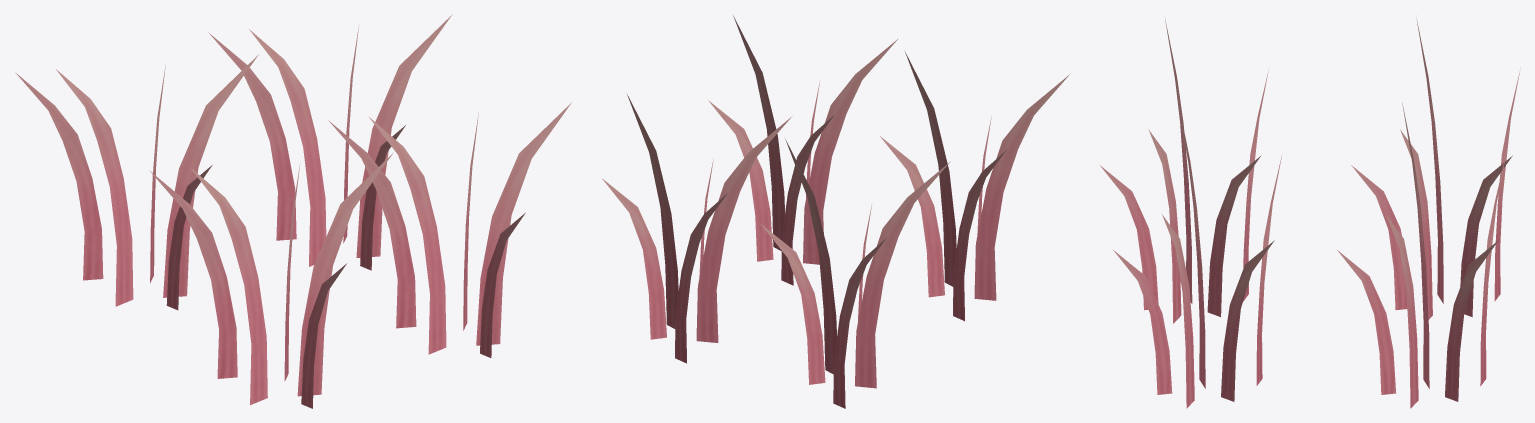
The model's file is Pinkgrass_4.FBX.
3 renders of one model, left to right at view 1: azimuth 30°, elevation 25°; view 2: azimuth 150°, elevation 25°; view 3: azimuth 270°, elevation 25°, orthographic. The views are drawn at different scales.
Visible parts, largest first — view 1: Line005; view 2: Line005; view 3: Line005.
Boxes of the visible parts, x1,y1,x2,y2 form: Line005: (15,14,571,408); Line005: (602,15,1069,408); Line005: (1100,17,1520,408).
Size of the model in its own units: 3.66 by 2.43 by 3.75.
